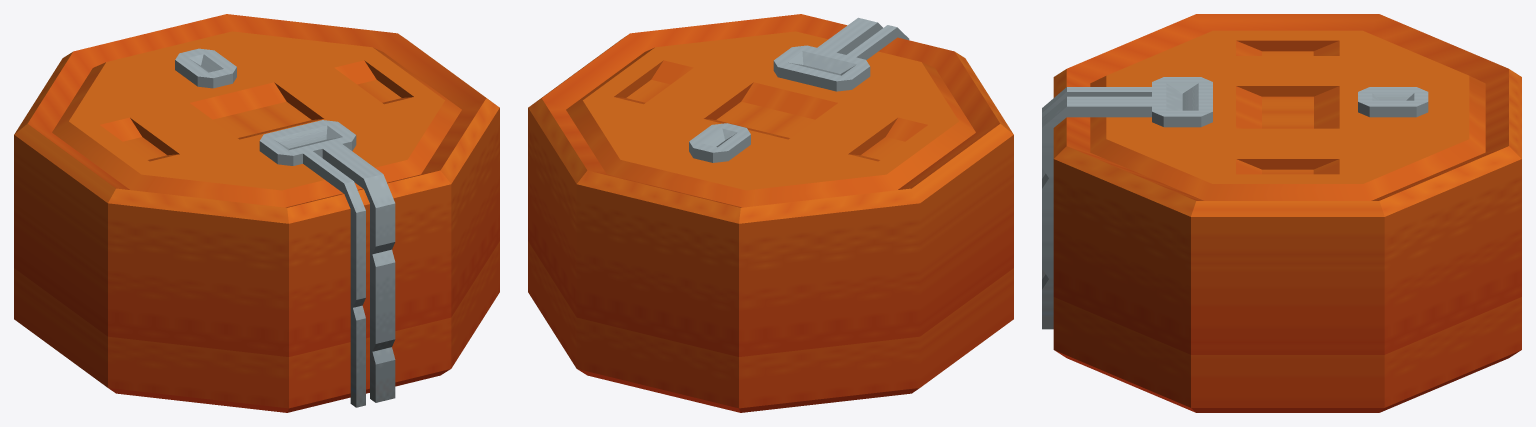
Rendered from water-storage.glb.
The picture shows the model from 3 angles, left to right: view 1: azimuth 30°, elevation 25°; view 2: azimuth 150°, elevation 25°; view 3: azimuth 270°, elevation 25°; orthographic projection. The views are drawn at different scales.
Visible parts, largest first — view 1: water_storage; view 2: water_storage; view 3: water_storage.
Part boxes in pixels (x1,y1,x2,y2): water_storage: (14,14,499,412); water_storage: (528,14,1013,412); water_storage: (1042,14,1521,412).
Size of the model in its own units: 2 by 1.05 by 2.05.
1 material, 1 textured.
